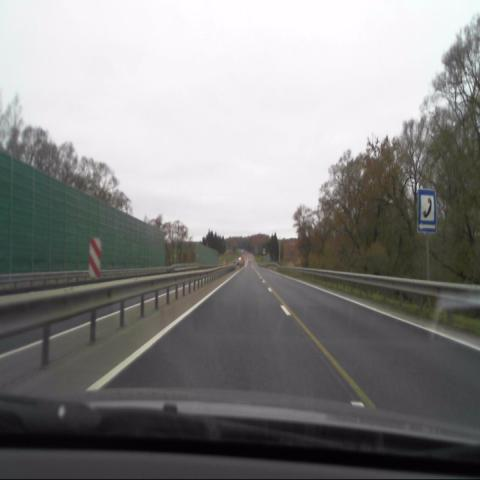7_6: (418, 188, 437, 237)
